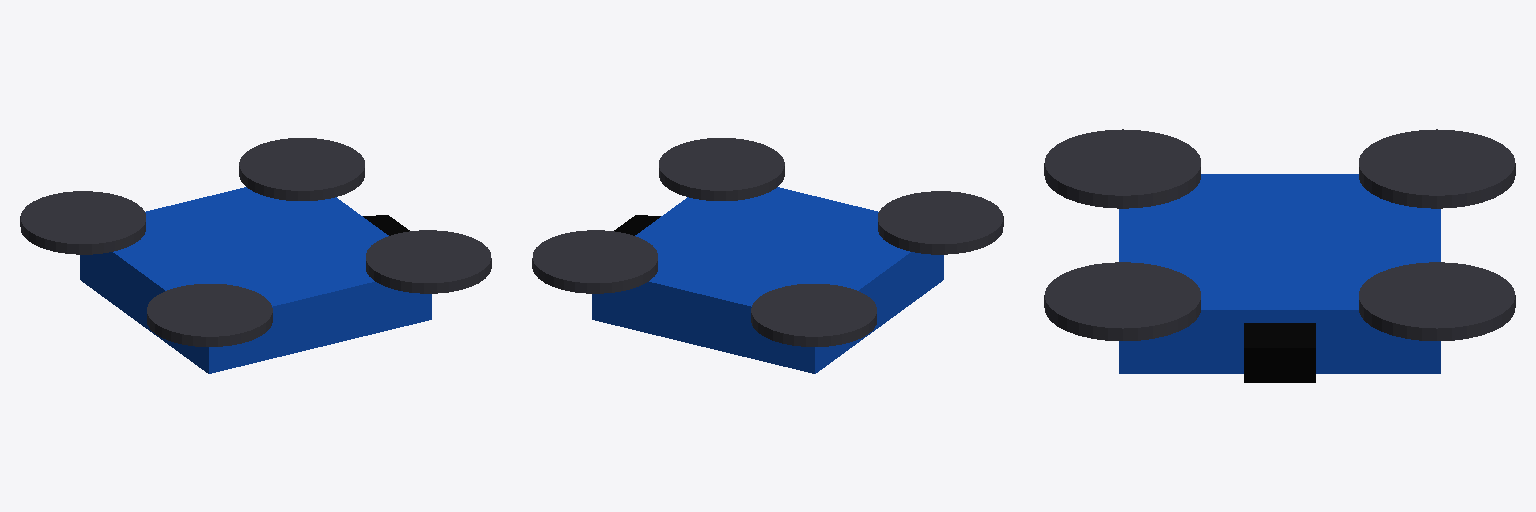
The robot description file, URDF, robot "uav_simple":
<?xml version="1.0"?>
<!-- 简化四旋翼：平面运动插件驱动（x/y/yaw），固定高度悬停，前置相机 -->
<robot name="uav_simple">

  <link name="base_link">
    <inertial>
      <mass value="1.0"/>
      <inertia ixx="0.01" ixy="0" ixz="0" iyy="0.01" iyz="0" izz="0.02"/>
    </inertial>
    <visual>
      <geometry><box size="0.45 0.45 0.10"/></geometry>
      <material name="uav_blue"><color rgba="0.10 0.35 0.75 1.0"/></material>
    </visual>
    <!-- 注意：机身不设 collision。激光雷达装在机身内部，若有机身碰撞体，
         射线会打到自己的外壳（半径 0.225），把自身当成障碍物。 -->
  </link>

  <!-- 四个旋翼（仅视觉，示意） -->
  <link name="rotor_fl">
    <visual><geometry><cylinder radius="0.11" length="0.02"/></geometry>
      <material name="rotor_gray"><color rgba="0.25 0.25 0.28 1.0"/></material></visual>
  </link>
  <joint name="j_fl" type="fixed"><parent link="base_link"/><child link="rotor_fl"/>
    <origin xyz="0.22 0.22 0.06"/></joint>

  <link name="rotor_fr">
    <visual><geometry><cylinder radius="0.11" length="0.02"/></geometry>
      <material name="rotor_gray2"><color rgba="0.25 0.25 0.28 1.0"/></material></visual>
  </link>
  <joint name="j_fr" type="fixed"><parent link="base_link"/><child link="rotor_fr"/>
    <origin xyz="0.22 -0.22 0.06"/></joint>

  <link name="rotor_rl">
    <visual><geometry><cylinder radius="0.11" length="0.02"/></geometry>
      <material name="rotor_gray3"><color rgba="0.25 0.25 0.28 1.0"/></material></visual>
  </link>
  <joint name="j_rl" type="fixed"><parent link="base_link"/><child link="rotor_rl"/>
    <origin xyz="-0.22 0.22 0.06"/></joint>

  <link name="rotor_rr">
    <visual><geometry><cylinder radius="0.11" length="0.02"/></geometry>
      <material name="rotor_gray4"><color rgba="0.25 0.25 0.28 1.0"/></material></visual>
  </link>
  <joint name="j_rr" type="fixed"><parent link="base_link"/><child link="rotor_rr"/>
    <origin xyz="-0.22 -0.22 0.06"/></joint>

  <!-- 相机 -->
  <link name="camera_link">
    <visual>
      <geometry><box size="0.06 0.10 0.06"/></geometry>
      <material name="cam_black"><color rgba="0.05 0.05 0.05 1.0"/></material>
    </visual>
    <inertial>
      <mass value="0.05"/>
      <inertia ixx="0.0001" ixy="0" ixz="0" iyy="0.0001" iyz="0" izz="0.0001"/>
    </inertial>
  </link>
  <joint name="camera_joint" type="fixed">
    <parent link="base_link"/><child link="camera_link"/>
    <origin xyz="0.26 0.0 0.0" rpy="0 0.18 0"/>
  </joint>

  <!-- 2D 激光雷达：射线在物理引擎里计算，不需要图形环境。
       必须保留独立 link + 固定关节（preserveFixedJoint），否则 URDF→SDF
       会把关节合并、传感器落回机身中心，把自己的外壳当成障碍物（半径 0.225）。 -->
  <link name="laser_link">
    <inertial>
      <mass value="0.02"/>
      <inertia ixx="0.0001" ixy="0" ixz="0" iyy="0.0001" iyz="0" izz="0.0001"/>
    </inertial>
  </link>
  <joint name="laser_joint" type="fixed">
    <parent link="base_link"/><child link="laser_link"/>
    <origin xyz="0.0 0.0 0.22"/>
  </joint>

  <gazebo reference="laser_link">
    <preserveFixedJoint>true</preserveFixedJoint>
    <sensor type="ray" name="laser">
      <pose>0 0 0 0 0 0</pose>
      <visualize>false</visualize>
      <update_rate>10</update_rate>
      <ray>
        <scan>
          <horizontal>
            <samples>360</samples>
            <resolution>1</resolution>
            <min_angle>-3.14159</min_angle>
            <max_angle>3.14159</max_angle>
          </horizontal>
        </scan>
        <range><min>0.20</min><max>12.0</max></range>
      </ray>
      <plugin name="laser_controller" filename="libgazebo_ros_laser.so">
        <topicName>/uav/scan</topicName>
        <frameName>laser_link</frameName>
      </plugin>
    </sensor>
  </gazebo>

  <gazebo reference="base_link">
    <gravity>false</gravity>
  </gazebo>


  <gazebo reference="camera_link">
    <sensor type="camera" name="front_camera">
      <update_rate>10</update_rate>
      <camera>
        <horizontal_fov>1.2</horizontal_fov>
        <image>
          <width>320</width>
          <height>240</height>
          <format>R8G8B8</format>
        </image>
        <clip><near>0.05</near><far>30.0</far></clip>
      </camera>
      <plugin name="camera_controller" filename="libgazebo_ros_camera.so">
        <cameraName>uav_cam</cameraName>
        <imageTopicName>image_raw</imageTopicName>
        <cameraInfoTopicName>camera_info</cameraInfoTopicName>
        <frameName>camera_link</frameName>
      </plugin>
    </sensor>
  </gazebo>

  <!-- 平面运动：订阅 cmd_vel，直接设置模型位姿（x, y, yaw） -->
  <gazebo>
    <plugin name="planar_move" filename="libgazebo_ros_planar_move.so">
      <commandTopic>cmd_vel</commandTopic>
      <odometryTopic>odom</odometryTopic>
      <odometryFrame>odom</odometryFrame>
      <odometryRate>50.0</odometryRate>
      <publishTF>true</publishTF>
      <publishOdometry>true</publishOdometry>
    </plugin>
  </gazebo>

</robot>

--- What the picture shows (computed from the rendered views, not written in the file) ---
The picture shows the robot from 3 angles, left to right: view 1: azimuth 30°, elevation 25°; view 2: azimuth 150°, elevation 25°; view 3: azimuth 270°, elevation 25°; orthographic projection.
Model uav_simple with 7 links and 6 joints (6 fixed), rooted at base_link, posed every joint at zero.
Links seen in each view (by area): view 1: base_link, rotor_rl, rotor_fr, rotor_rr, rotor_fl; view 2: base_link, rotor_rr, rotor_fl, rotor_rl, rotor_fr; view 3: base_link, rotor_fl, rotor_fr, rotor_rl, rotor_rr, camera_link.
Boxes of the visible links, x1,y1,x2,y2 form: base_link: (80,187,431,373); rotor_rl: (20,191,145,254); rotor_fr: (366,230,491,293); rotor_rr: (147,284,272,346); rotor_fl: (239,138,364,200); base_link: (592,187,943,373); rotor_rr: (878,191,1003,254); rotor_fl: (532,230,657,293); rotor_rl: (751,284,876,346); rotor_fr: (659,138,784,200); base_link: (1119,174,1440,373); rotor_fl: (1359,262,1515,340); rotor_fr: (1044,262,1200,340); rotor_rl: (1359,129,1515,208); rotor_rr: (1044,129,1200,208); camera_link: (1244,323,1315,382).
Size in the robot's own frame: 0.66 by 0.66 by 0.12 metres.
Geometry: primitives only (box / cylinder / sphere), no mesh files.
